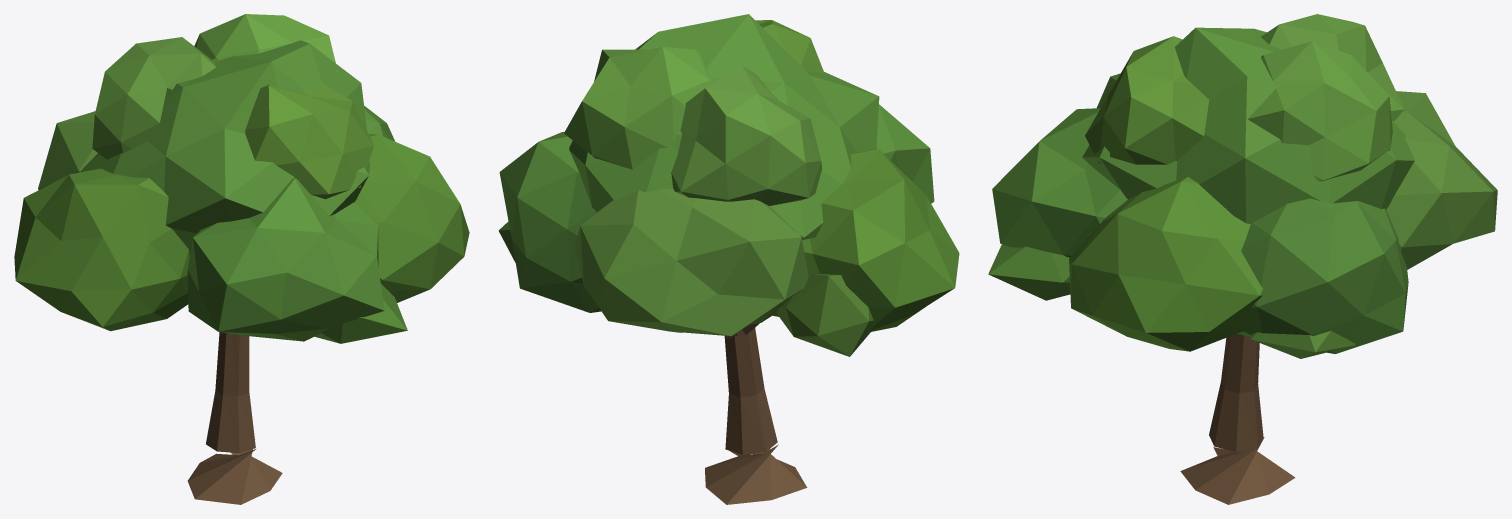
File: broadleaf_a.glb
3 views of the same model, side by side, from view 1: azimuth 30°, elevation 25°; view 2: azimuth 150°, elevation 25°; view 3: azimuth 270°, elevation 25° (orthographic). The views are drawn at different scales.
Parts seen in each view (by area): view 1: broadleaf; view 2: broadleaf; view 3: broadleaf.
Part boxes in pixels (bbox=[...]): broadleaf: bbox=[14, 14, 469, 504]; broadleaf: bbox=[498, 14, 959, 504]; broadleaf: bbox=[988, 14, 1497, 504].
Size of the model in its own units: 9.1 by 9.13 by 9.08.
